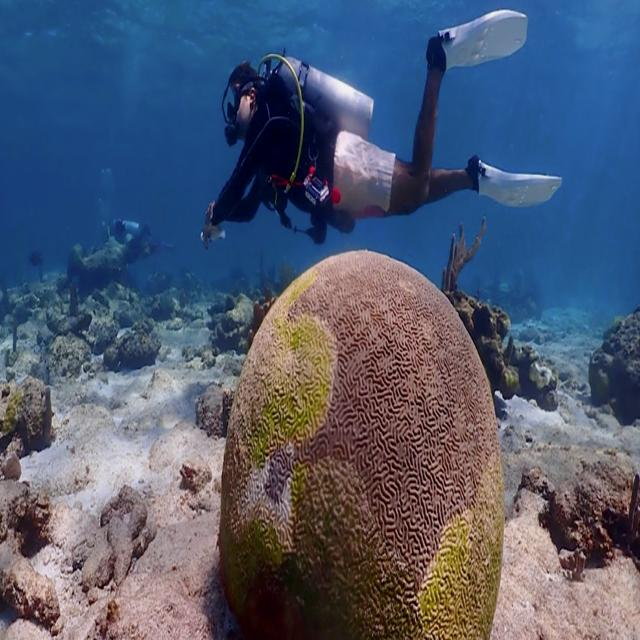Coral: (217, 249, 505, 640)
